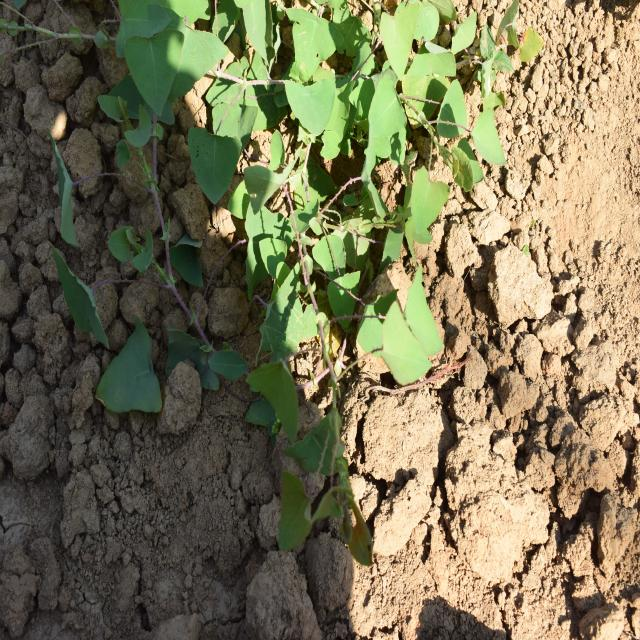Asiatic_Smartweed: (243, 254, 437, 555), (275, 0, 495, 221)
